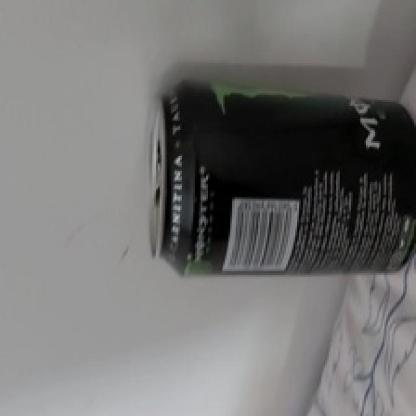Can: (148, 77, 416, 279)
